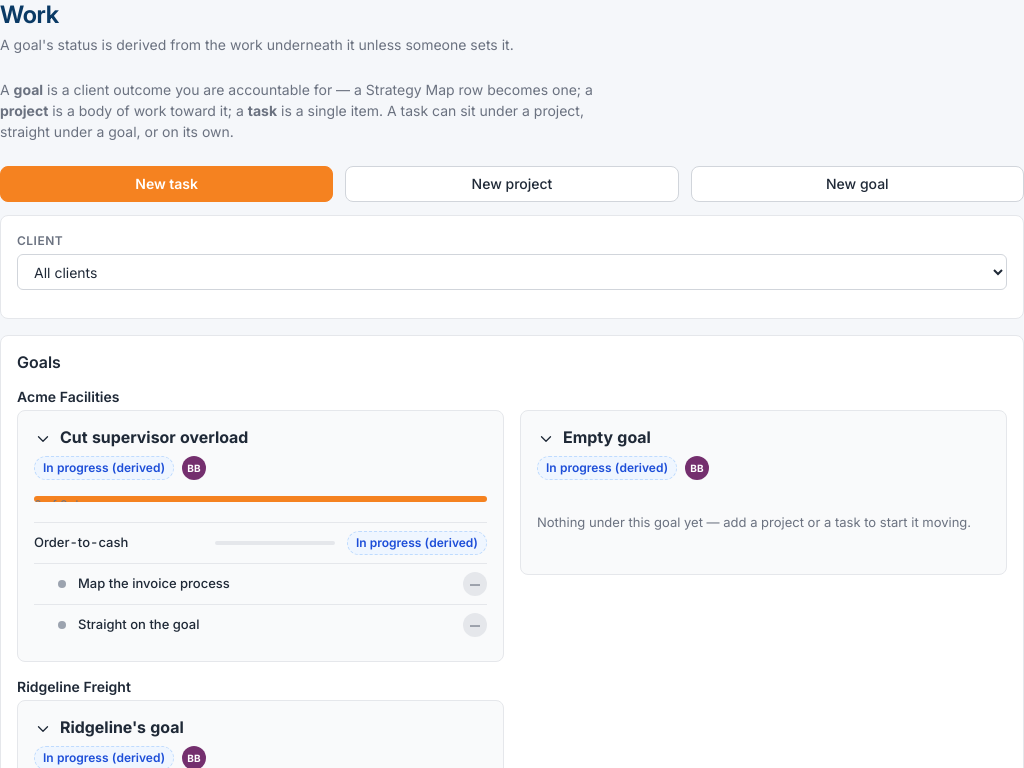
Scenario: Work carries a company dimension › narrows to the practice's own work, which belongs to no client
Select "Internal — the practice's own" in the dropdown named "Filter by client company": (512, 272) [17,254,1007,290]
(page scrolled)
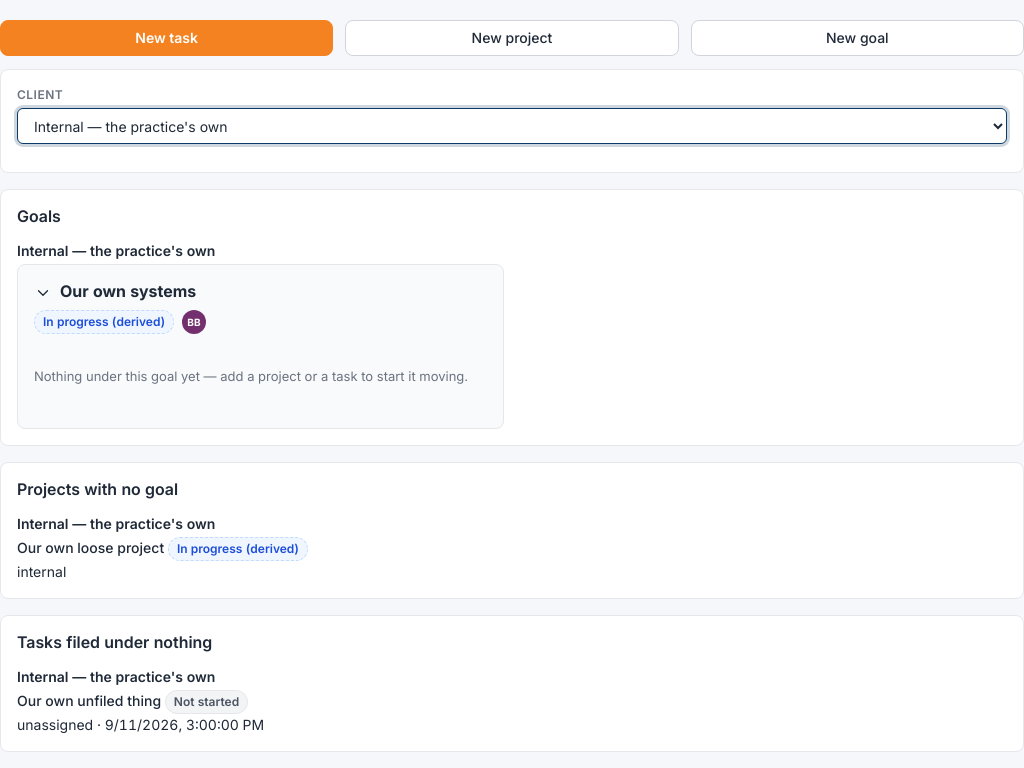
expect the link "Our own systems" is shown: met, box [60,281,196,301]
expect the link "Cut supervisor overload" is gone: met
expect the link "Ridgeline's goal" is gone: met
